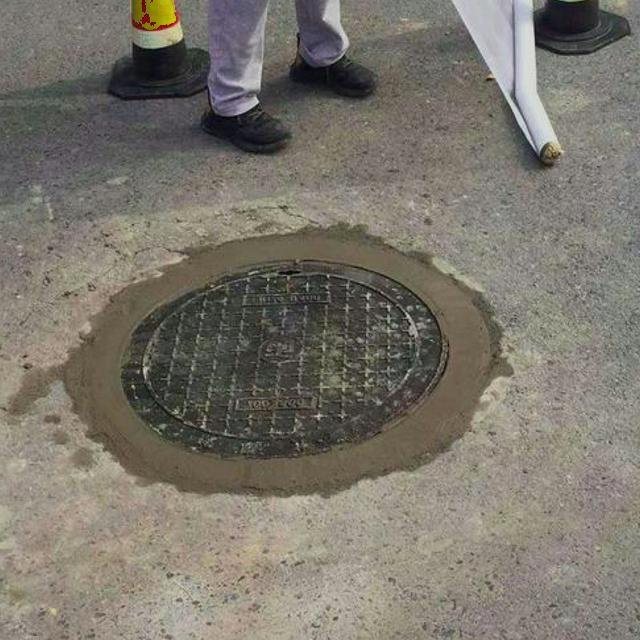good: (46, 204, 509, 502)
